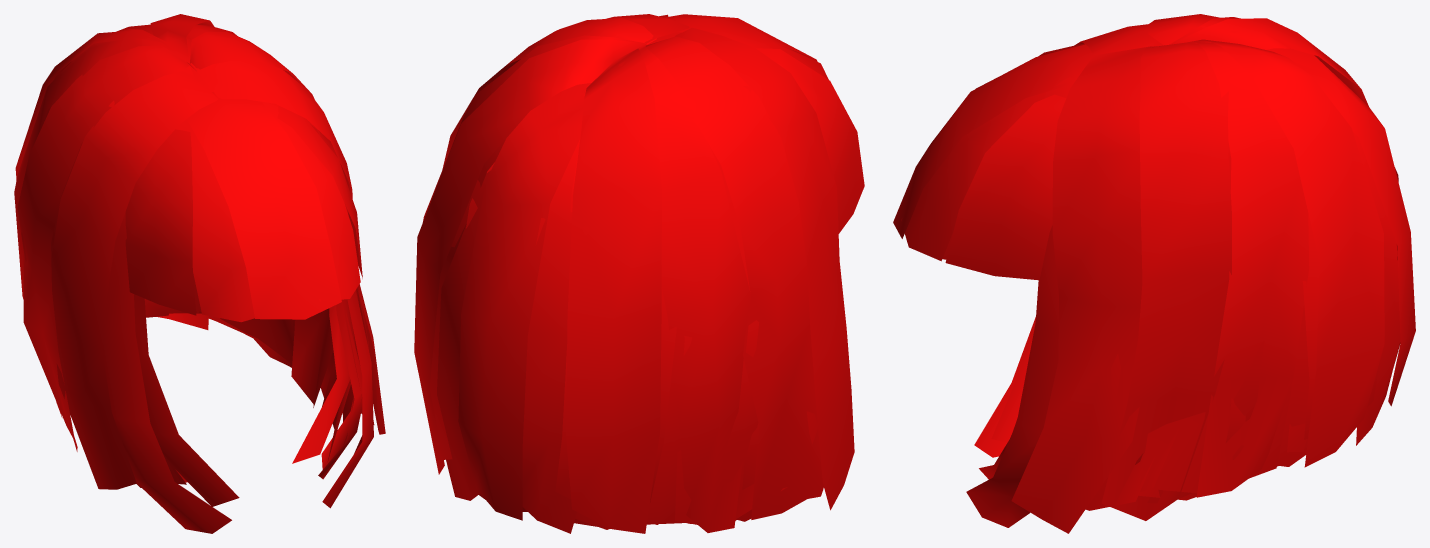
Rendered from elvs_witchy_lil_bob_M.glb.
3 renders of one model, left to right at view 1: azimuth 30°, elevation 25°; view 2: azimuth 150°, elevation 25°; view 3: azimuth 270°, elevation 25°, orthographic. The views are drawn at different scales.
Bounding box in the file's own units: 0.2288 × 0.3151 × 0.3252.
Materials: 1 (1 with a texture image).
